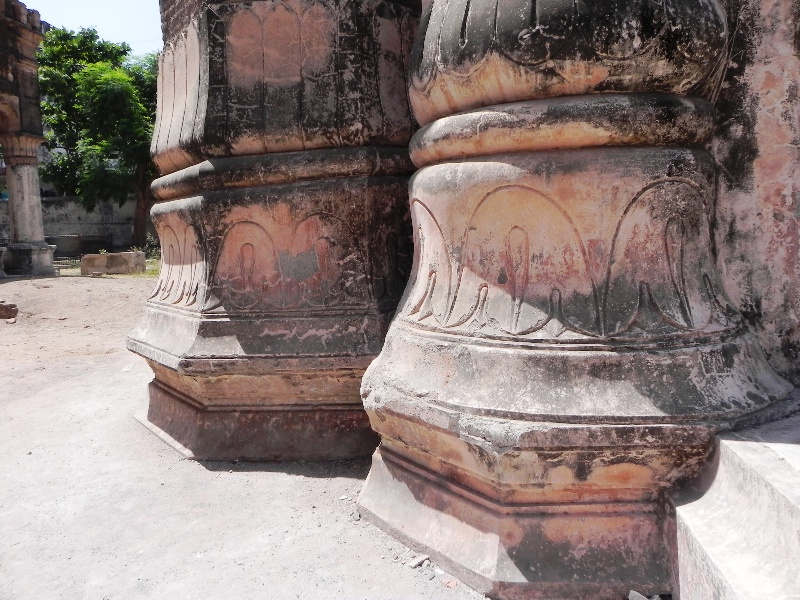Spalling: (273, 248, 325, 285)
